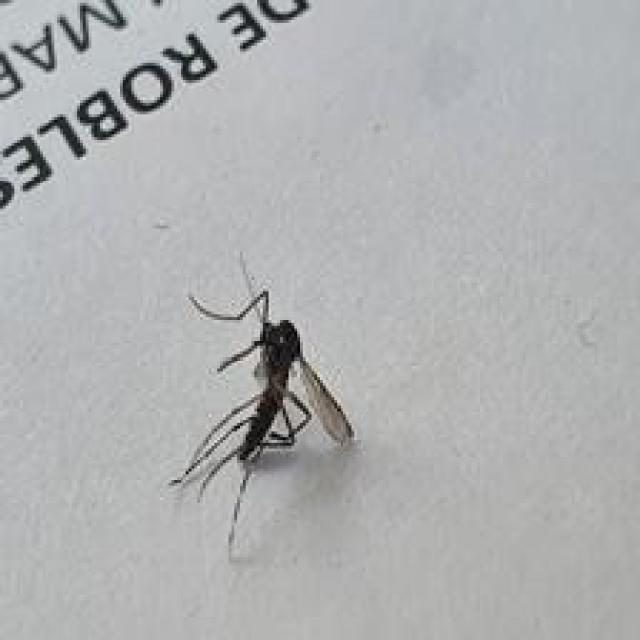Aedes albopictus: (167, 258, 356, 553)
